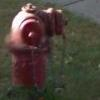Hydrant: (7, 6, 75, 90)
